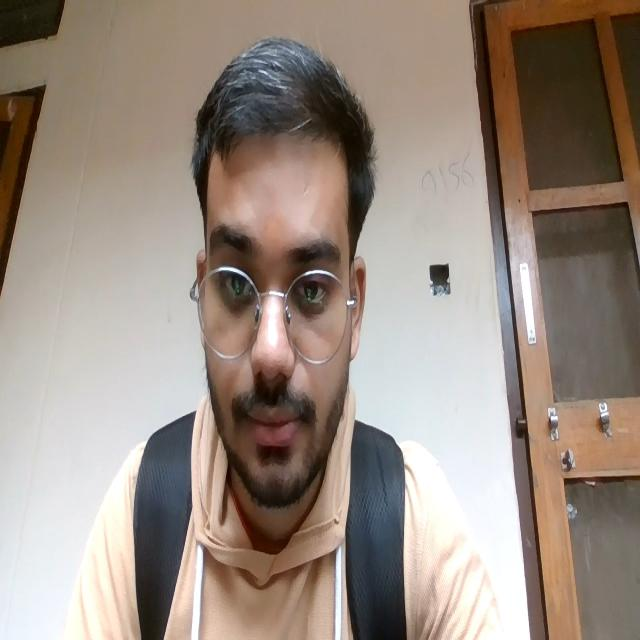awake: (199, 226, 342, 477)
